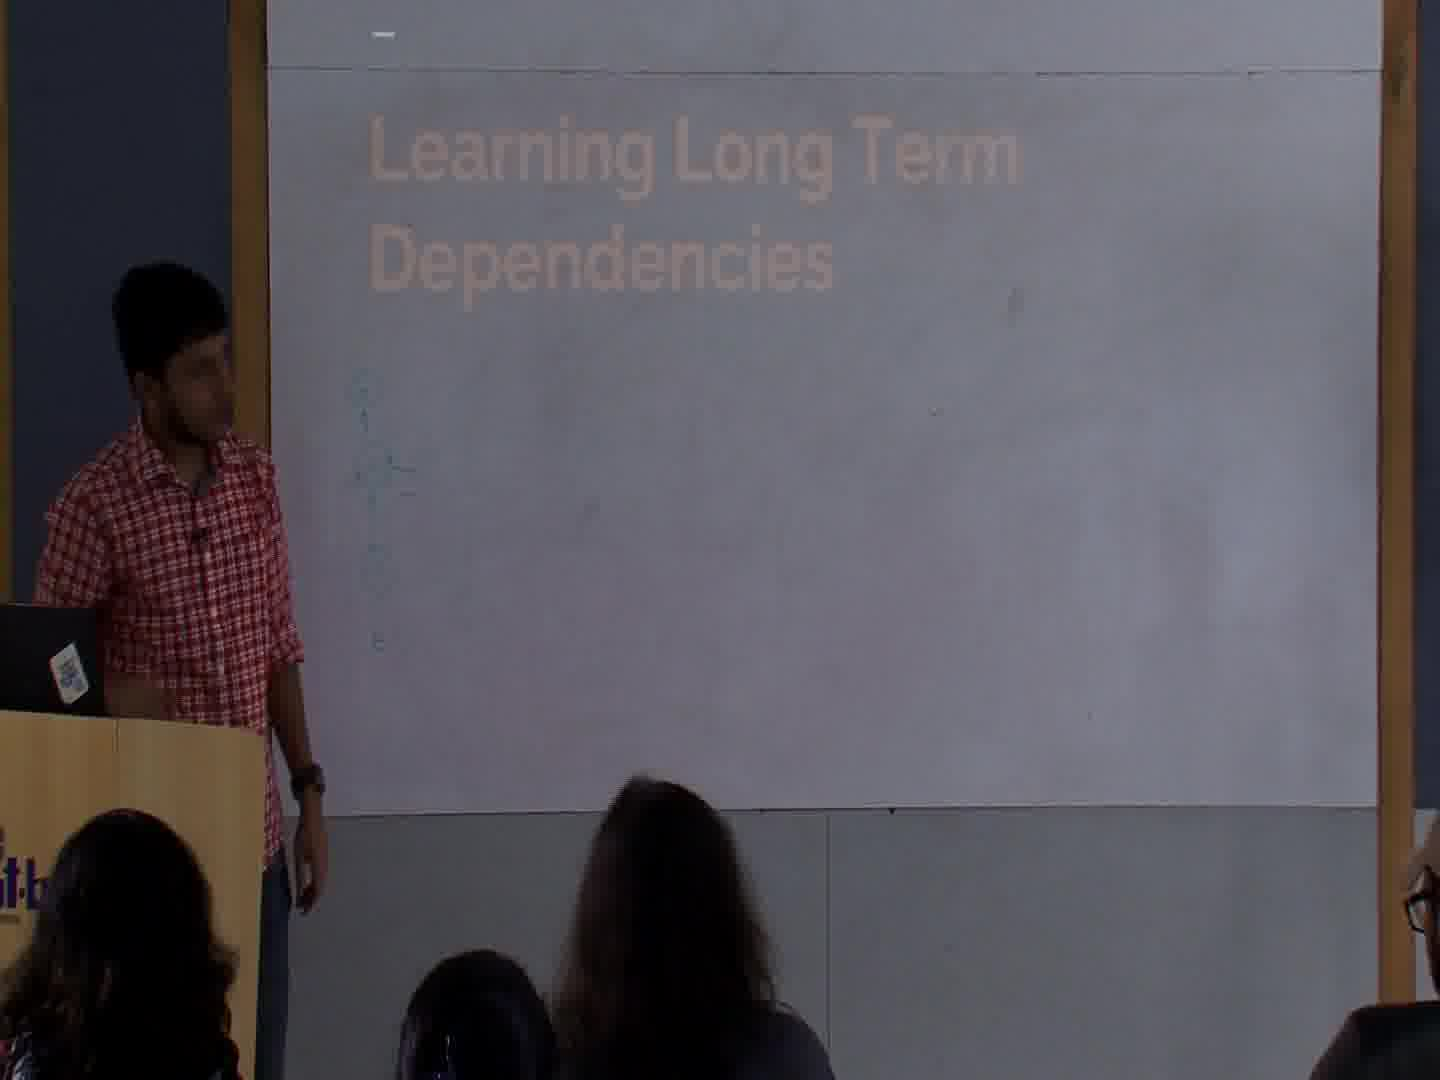slide: (266, 3, 1380, 805)
